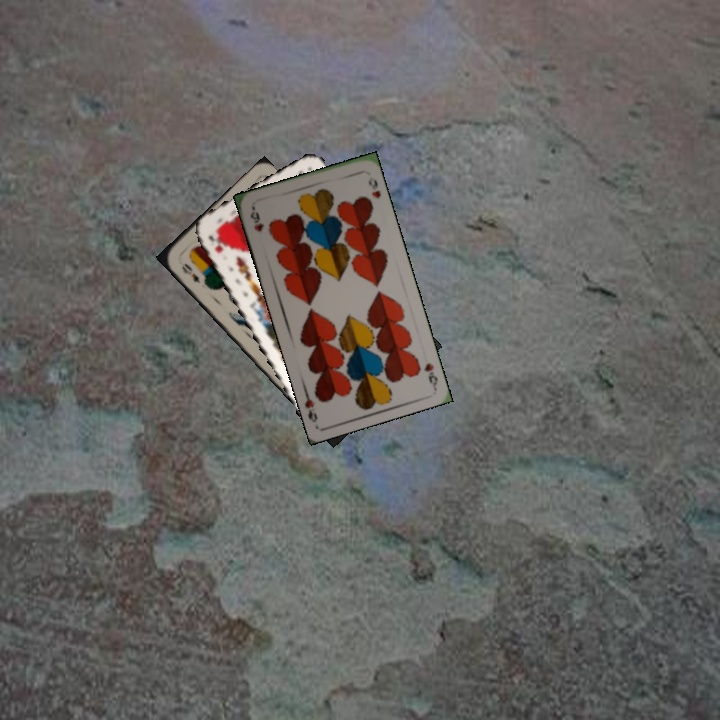EO: (178, 259, 203, 286)
H9: (246, 205, 267, 234), (420, 359, 440, 389)
HK: (205, 231, 228, 255)
